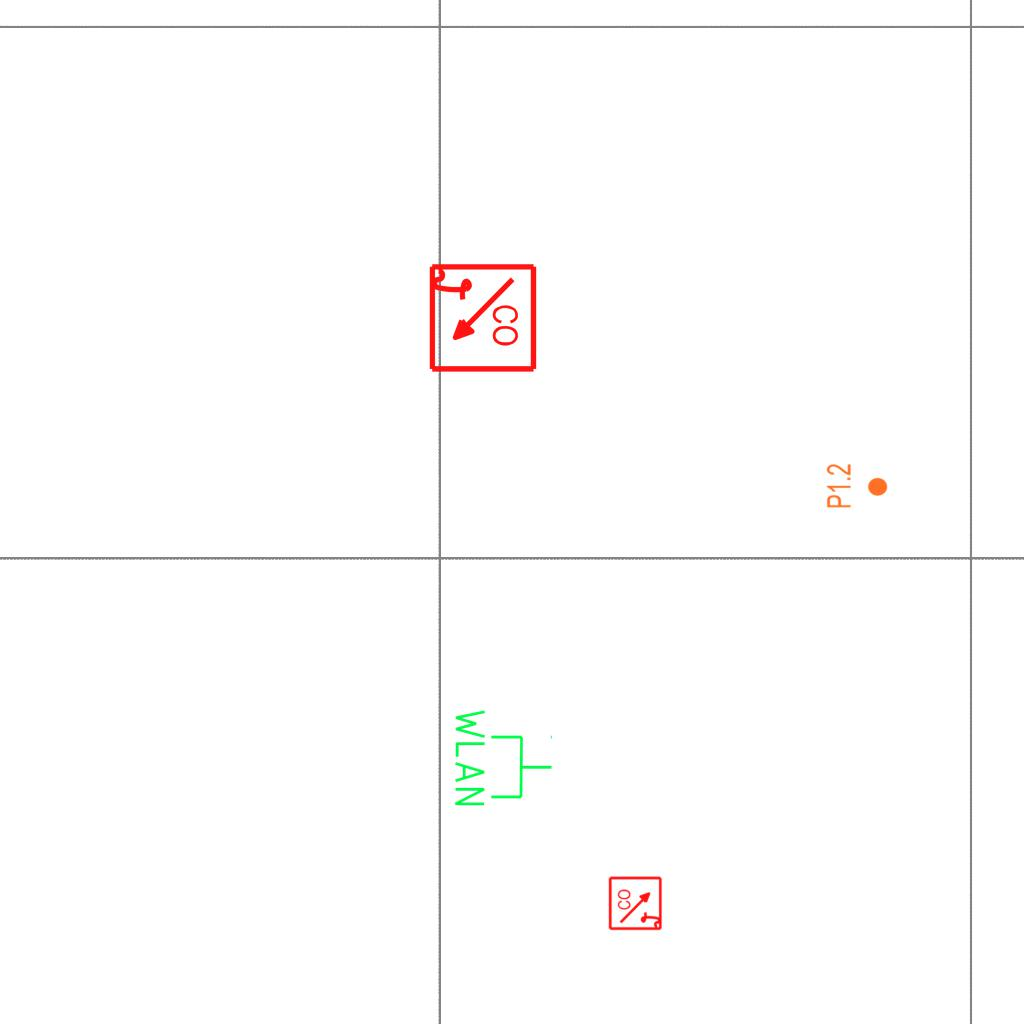Downlight_LED_Einbauleuchten_Flur: (825, 463, 889, 509)
ROA_Rauchmelder_optisch_mit_Signalgeber_(Sockelsirene): (425, 262, 538, 375), (608, 875, 664, 931)
WLAN: (451, 705, 555, 810)
